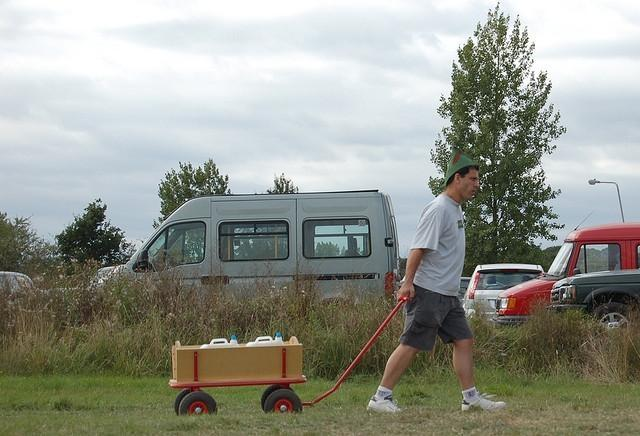car: (120, 194, 397, 299), (463, 264, 548, 322), (1, 270, 41, 292)
truck: (95, 192, 402, 297), (494, 223, 640, 327), (546, 268, 640, 341)
